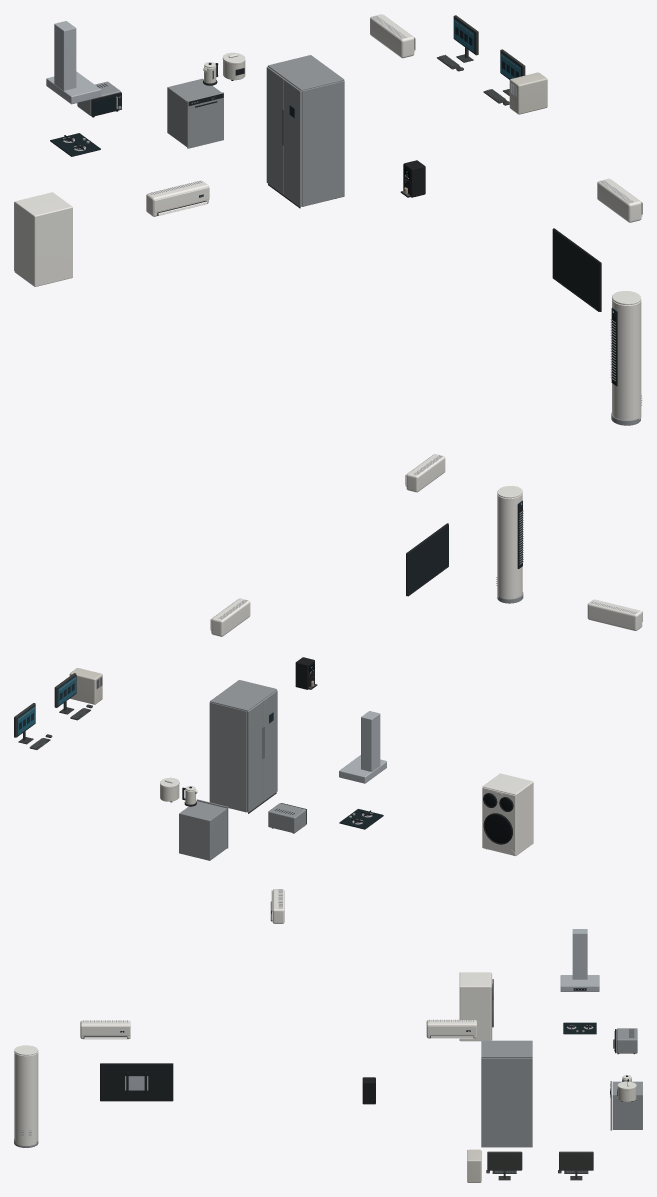
The model's file is appliances-only.glb.
The picture shows the model from 3 angles, top to bottom: view 1: azimuth 30°, elevation 25°; view 2: azimuth 150°, elevation 25°; view 3: azimuth 270°, elevation 25°; orthographic projection. The views are drawn at different scales.
Parts seen in each view (by area): view 1: AP01_body, AP08_body, AP13_body, AP14_screen, AP01_right_full_height_door, AP01_left_full_height_door, AP04_door, AP04_body, AP01_top_cap, AP03_chimney, S02_computer_tower, AP10_body (+5 smaller); view 2: AP01_body, AP04_body, AP13_body, AP08_body, AP14_screen, AP01_left_full_height_door, AP01_right_full_height_door, AP11_body, AP01_top_cap, AP03_chimney, AP08_front_panel, AP12_body (+5 smaller); view 3: AP01_body, Media_wall_panel, AP13_body, AP08_body, AP04_body, AP01_top_cap, AP03_chimney, S02_monitor_1, S02_monitor_0, AP03_canopy, AP05_body, S02_computer_tower (+5 smaller).
Boxes of the visible parts, x1,y1,x2,y2 form: AP01_body: [302, 80, 344, 206]; AP08_body: [14, 192, 72, 286]; AP13_body: [612, 299, 641, 420]; AP14_screen: [552, 230, 599, 310]; AP01_right_full_height_door: [283, 79, 301, 206]; AP01_left_full_height_door: [266, 67, 284, 194]; AP04_door: [187, 92, 223, 148]; AP04_body: [167, 78, 221, 146]; AP01_top_cap: [267, 55, 344, 90]; AP03_chimney: [54, 21, 76, 90]; S02_computer_tower: [509, 72, 547, 114]; AP10_body: [370, 14, 414, 58]; AP01_body: [209, 702, 246, 812]; AP04_body: [179, 801, 227, 860]; AP13_body: [497, 493, 522, 598]; AP08_body: [482, 773, 533, 856]; AP14_screen: [408, 525, 448, 594]; AP01_left_full_height_door: [247, 701, 262, 812]; AP01_right_full_height_door: [262, 690, 277, 801]; AP11_body: [587, 599, 642, 630]; AP01_top_cap: [210, 680, 276, 711]; AP03_chimney: [361, 711, 380, 771]; AP08_front_panel: [482, 787, 515, 855]; AP12_body: [406, 454, 445, 492]; AP01_body: [481, 1058, 532, 1147]; Media_wall_panel: [100, 1063, 173, 1101]; AP13_body: [14, 1051, 38, 1146]; AP08_body: [459, 972, 491, 1041]; AP04_body: [612, 1081, 642, 1129]; AP01_top_cap: [481, 1040, 532, 1057]; AP03_chimney: [572, 929, 587, 979]; S02_monitor_1: [487, 1151, 522, 1170]; S02_monitor_0: [559, 1151, 593, 1170]; AP03_canopy: [560, 975, 599, 991]; AP05_body: [617, 1028, 637, 1053]; S02_computer_tower: [467, 1149, 481, 1182].
Size of the model in its own units: 8.08 by 2.66 by 10.98.
